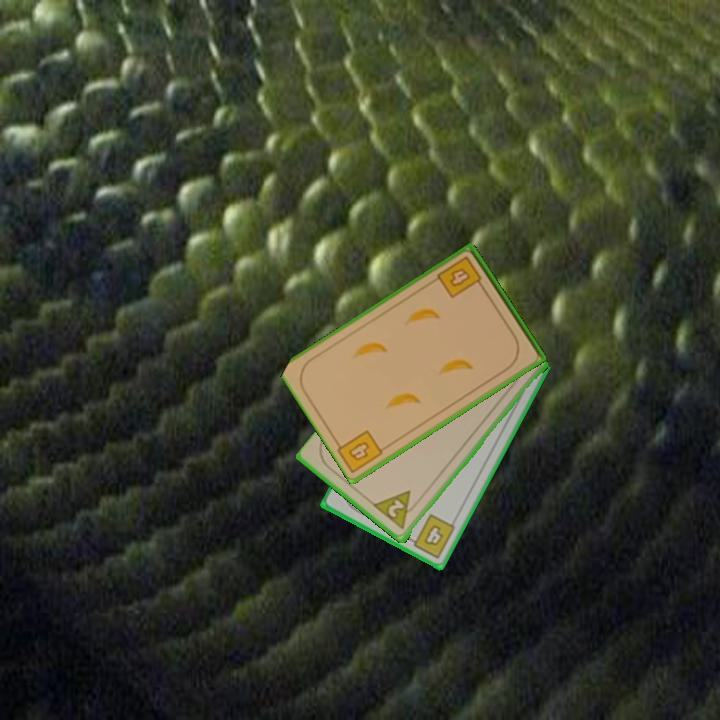2p: (371, 487, 422, 533)
4b: (404, 510, 458, 561), (434, 253, 487, 301), (345, 438, 373, 464)
